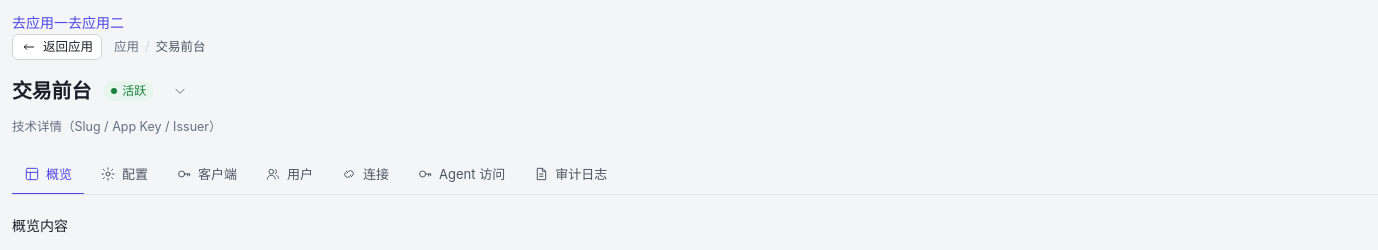
Scenario: AppLayout 跨 App 切换 › 切换 appId 后旧 App 数据不随新路由渲染，响应按最新 key 生效
Check: the heading "交易前台" is shown, box [12,76,91,107]
Click the link "去应用二". click: (96, 22)
box: [68,14,124,31]
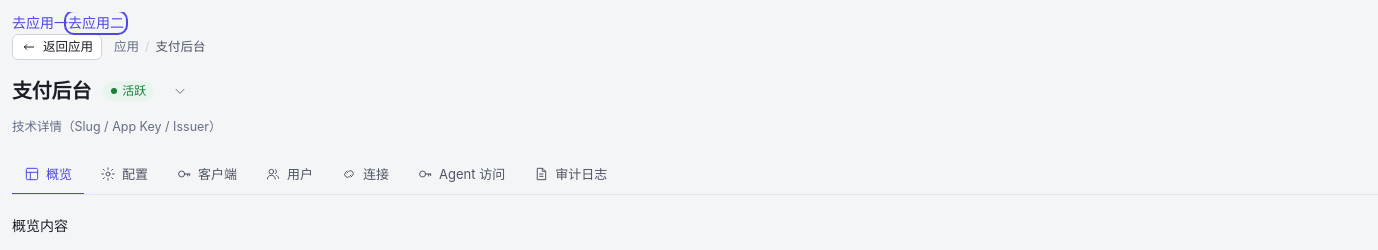
Check: the text "概览内容" is shown, box [12,216,68,234]
Check: the text "交易前台" is gone
Check: the heading "支付后台" is shown, box [12,76,91,107]
